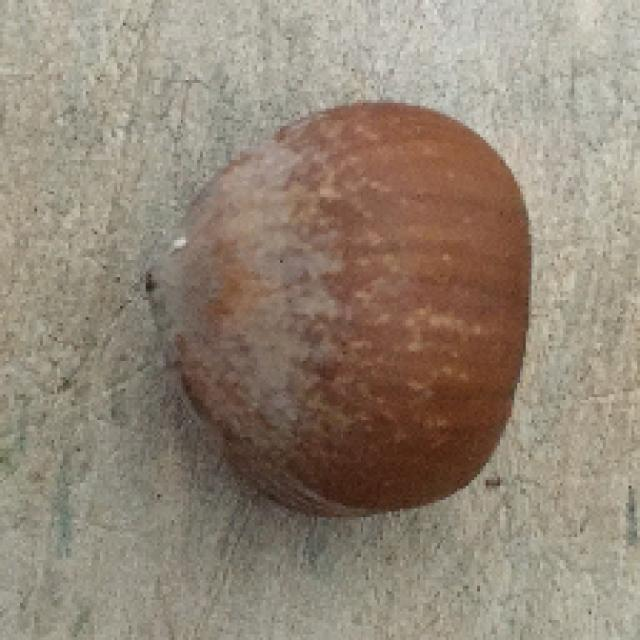qualityHazelnut: (152, 96, 534, 519)
